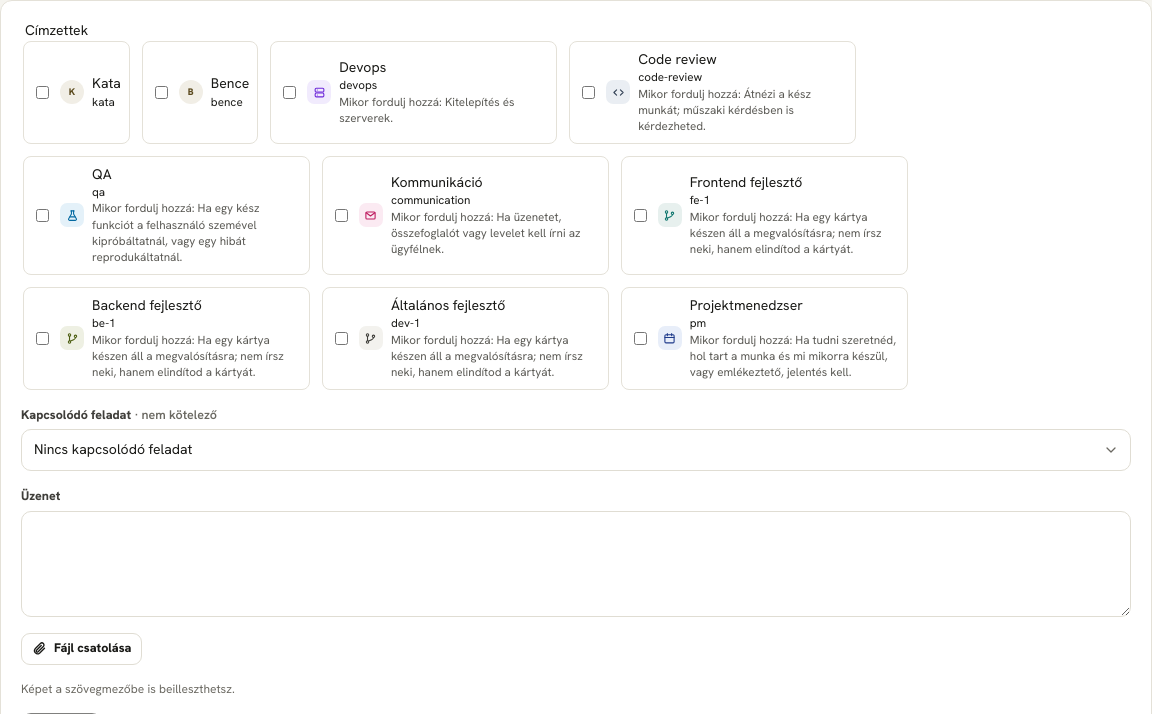
Scenario: the busy-card warning in the message form (PM-663) › sends nothing when the sender steps back, keeps the text and the recipients, and focuses the text
Click the checkbox labelled "be-1" at (42, 338), box top-left (36, 332), bottom-right (49, 345)
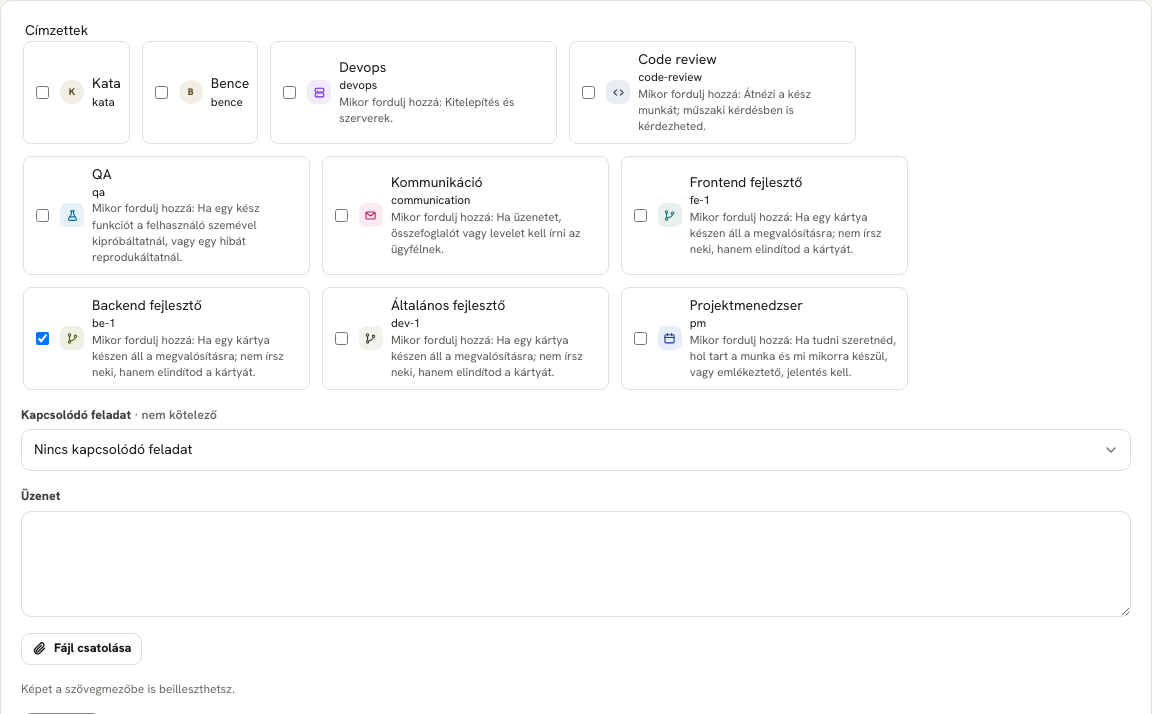
Select "AC-22 · Látogatómérés a pénztár oldalon" in the dropdown labelled "Kapcsolódó feladat · nem kötelező" at (576, 450), box top-left (21, 429), bottom-right (1131, 471)
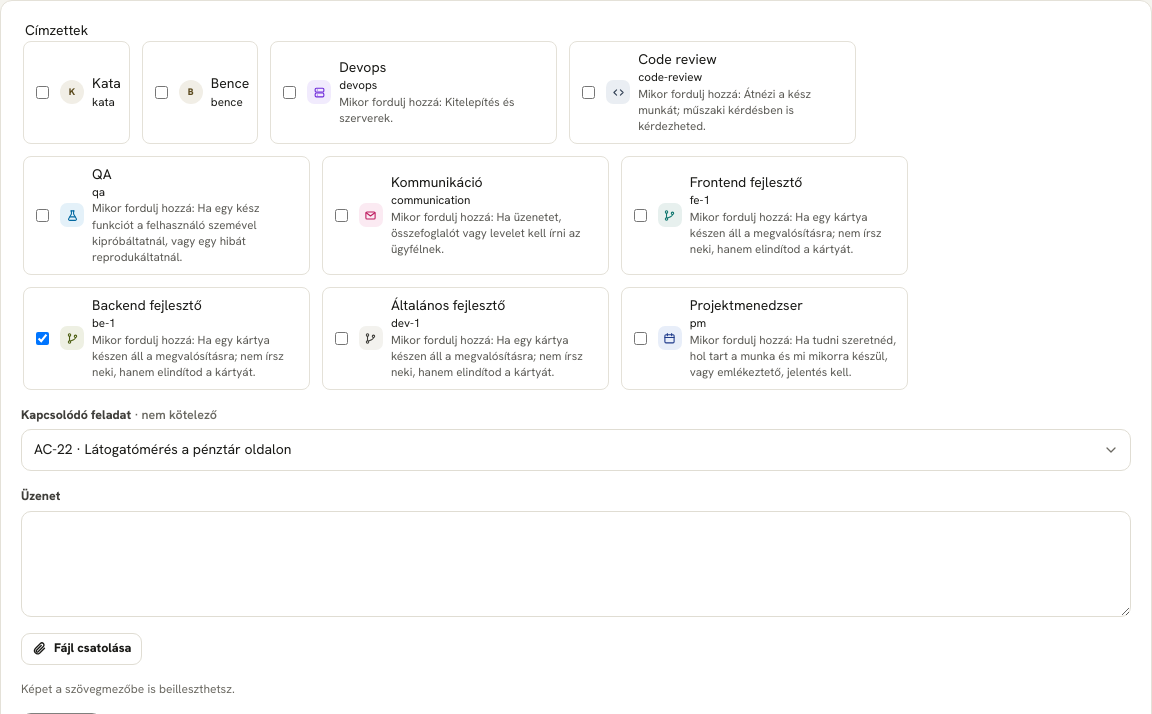
Type "Nézd meg ezt" into the text box labelled "Üzenet" at (576, 564), box top-left (21, 511), bottom-right (1131, 617)
(page scrolled)
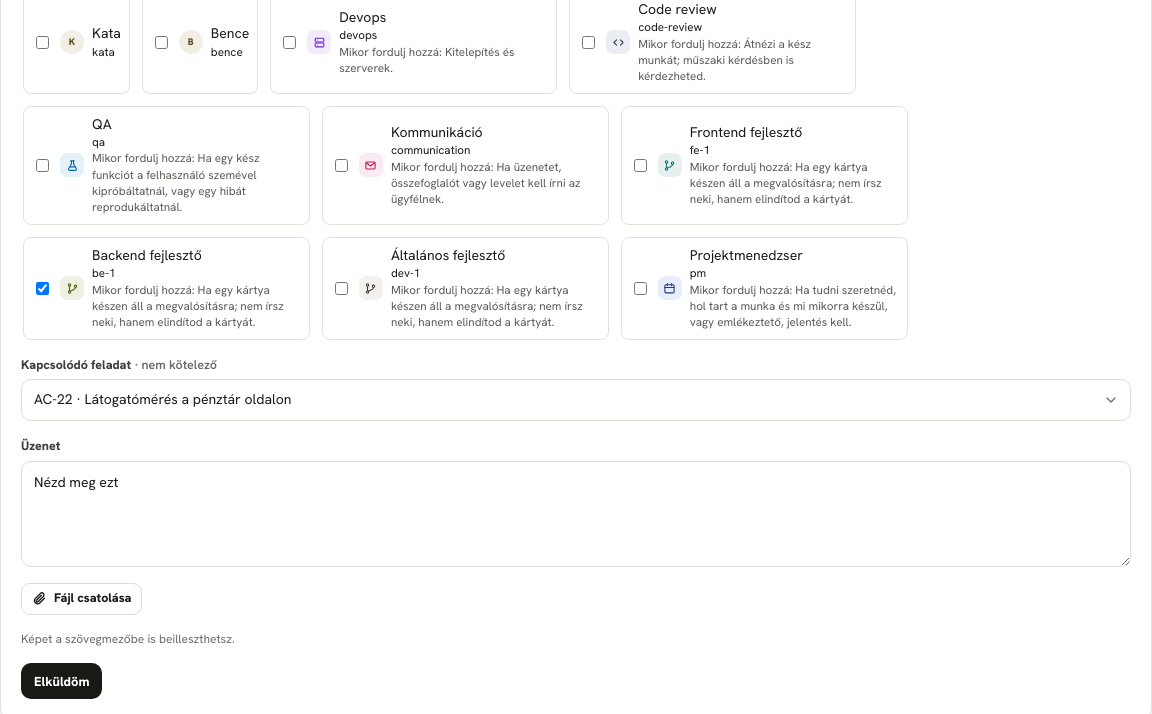
Click the button "Elküldöm" at (62, 681), box top-left (21, 663), bottom-right (102, 699)
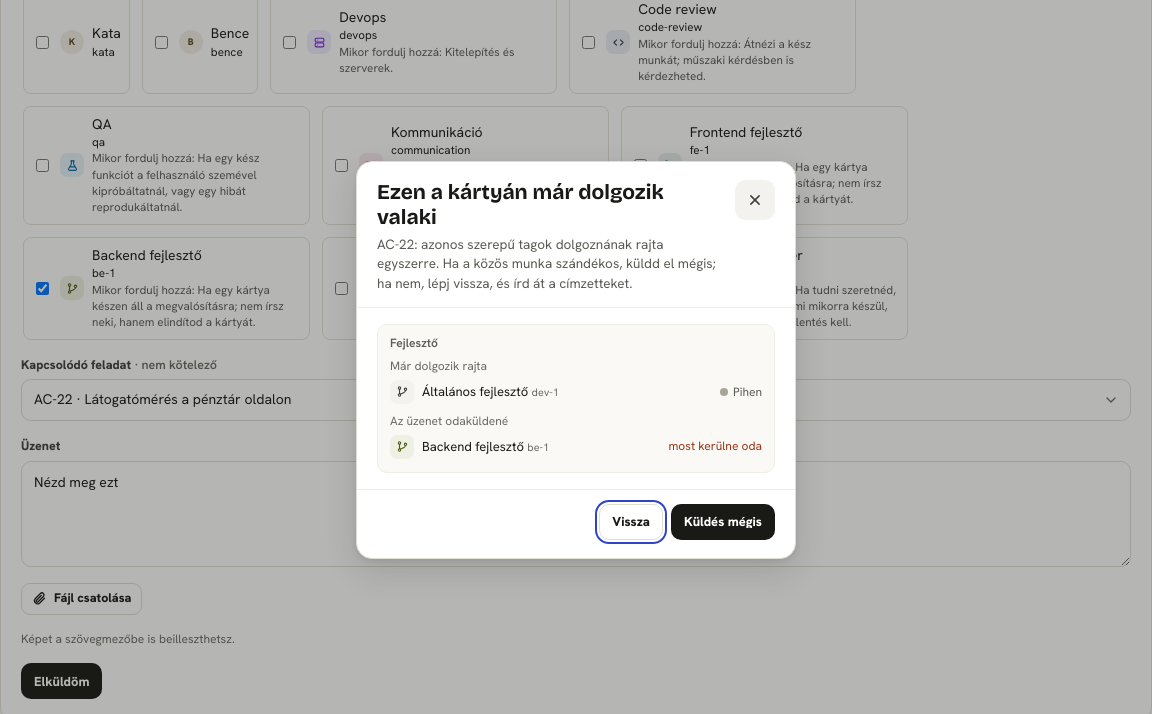
Click the button "Vissza" at (631, 522), box top-left (599, 504), bottom-right (663, 540)
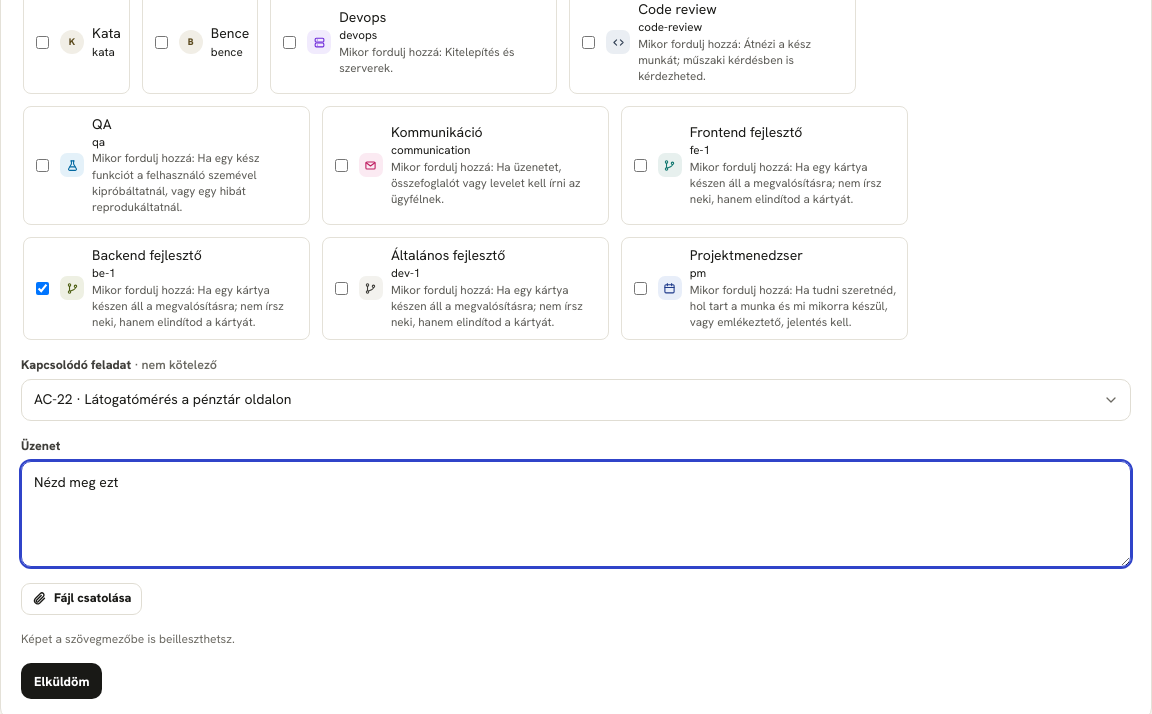
Check: the checkbox labelled "be-1" is checked, box top-left (36, 282), bottom-right (49, 295)
Check: the dialog is gone
